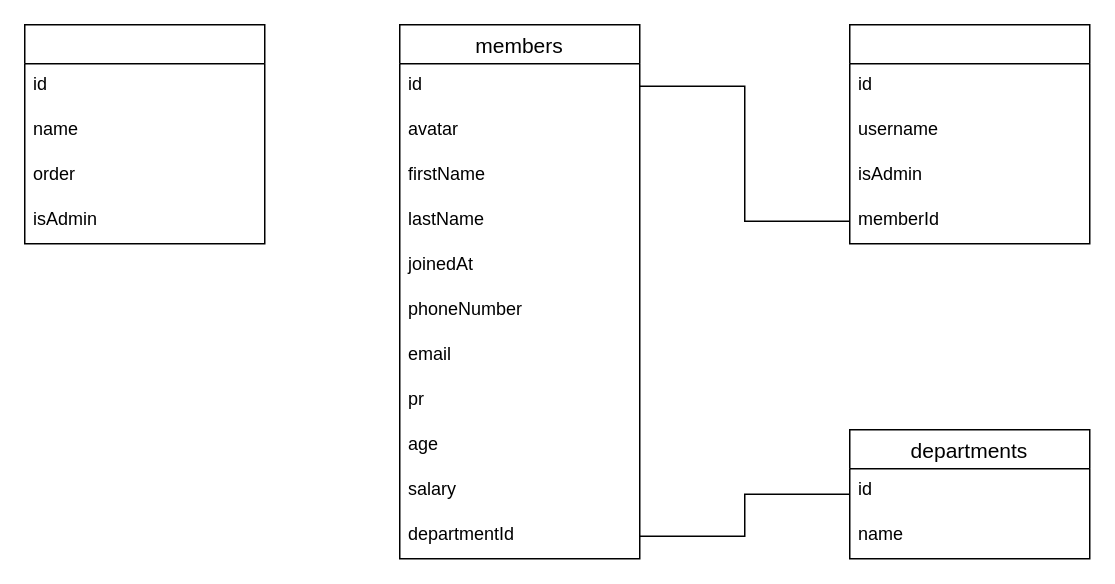
Image size: 1115x584. Some labels were removed from this diagram. Here are the shapes that lost their labels. From the top down, the box of each, then its label:
(23, 23, 265, 244): user_menu_items
(848, 23, 1090, 244): users
